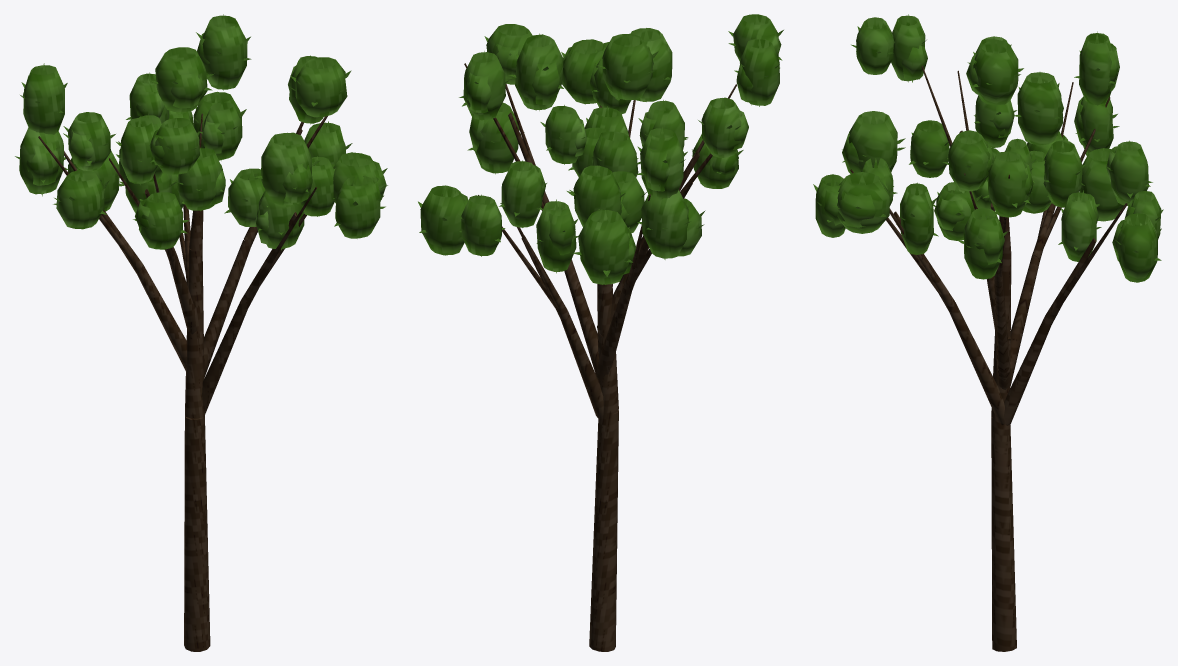
File: tree03-lod0.glb
3 views of the same model, side by side, from view 1: azimuth 30°, elevation 25°; view 2: azimuth 150°, elevation 25°; view 3: azimuth 270°, elevation 25° (orthographic). The views are drawn at different scales.
Parts seen in each view (by area): view 1: TZ_deciduous_broadleaf_Batch_01_LOD0, TZ_deciduous_broadleaf_Batch_00_LOD0, TZ_deciduous_broadleaf_Batch_02_LOD0; view 2: TZ_deciduous_broadleaf_Batch_01_LOD0, TZ_deciduous_broadleaf_Batch_00_LOD0, TZ_deciduous_broadleaf_Batch_02_LOD0; view 3: TZ_deciduous_broadleaf_Batch_01_LOD0, TZ_deciduous_broadleaf_Batch_00_LOD0, TZ_deciduous_broadleaf_Batch_02_LOD0.
Part boxes in pixels (x1=…): TZ_deciduous_broadleaf_Batch_01_LOD0: x1=19, y1=14, x2=386, y2=250; TZ_deciduous_broadleaf_Batch_00_LOD0: x1=38, y1=113, x2=327, y2=651; TZ_deciduous_broadleaf_Batch_02_LOD0: x1=15, y1=32, x2=387, y2=234; TZ_deciduous_broadleaf_Batch_01_LOD0: x1=420, y1=14, x2=781, y2=284; TZ_deciduous_broadleaf_Batch_00_LOD0: x1=464, y1=63, x2=736, y2=651; TZ_deciduous_broadleaf_Batch_02_LOD0: x1=418, y1=30, x2=783, y2=276; TZ_deciduous_broadleaf_Batch_01_LOD0: x1=815, y1=14, x2=1161, y2=282; TZ_deciduous_broadleaf_Batch_00_LOD0: x1=850, y1=66, x2=1127, y2=651; TZ_deciduous_broadleaf_Batch_02_LOD0: x1=813, y1=26, x2=1163, y2=262.
Bounding box in the file's own units: 3.43 × 7.2 × 3.83.
3 materials, 3 textured.
